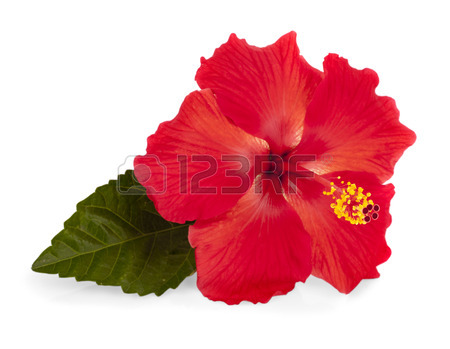Hibiscus: (139, 24, 437, 326)
